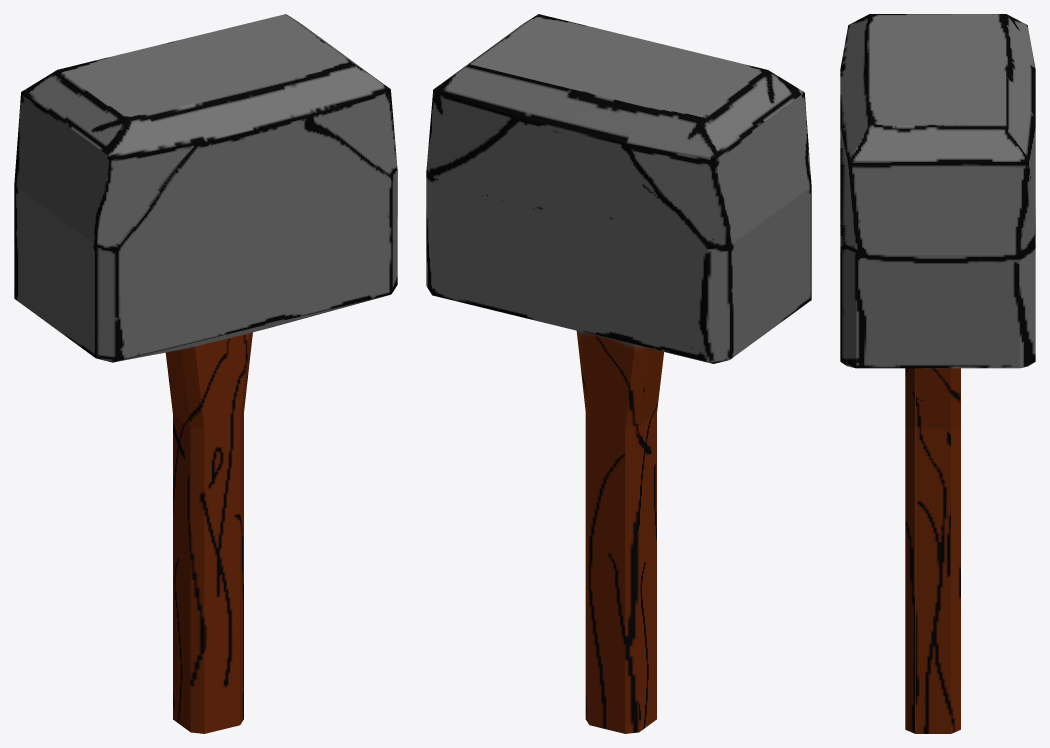
File: fatHammer.fbx
3 renders of one model, left to right at view 1: azimuth 30°, elevation 25°; view 2: azimuth 150°, elevation 25°; view 3: azimuth 270°, elevation 25°, orthographic.
Parts seen in each view (by area): view 1: Cube; view 2: Cube; view 3: Cube.
Part boxes in pixels (<box>): Cube: <box>14,14,397,733</box>; Cube: <box>426,14,811,733</box>; Cube: <box>840,14,1035,733</box>.
Bounding box in the file's own units: 357 × 735 × 200.
1 material, 1 textured.
